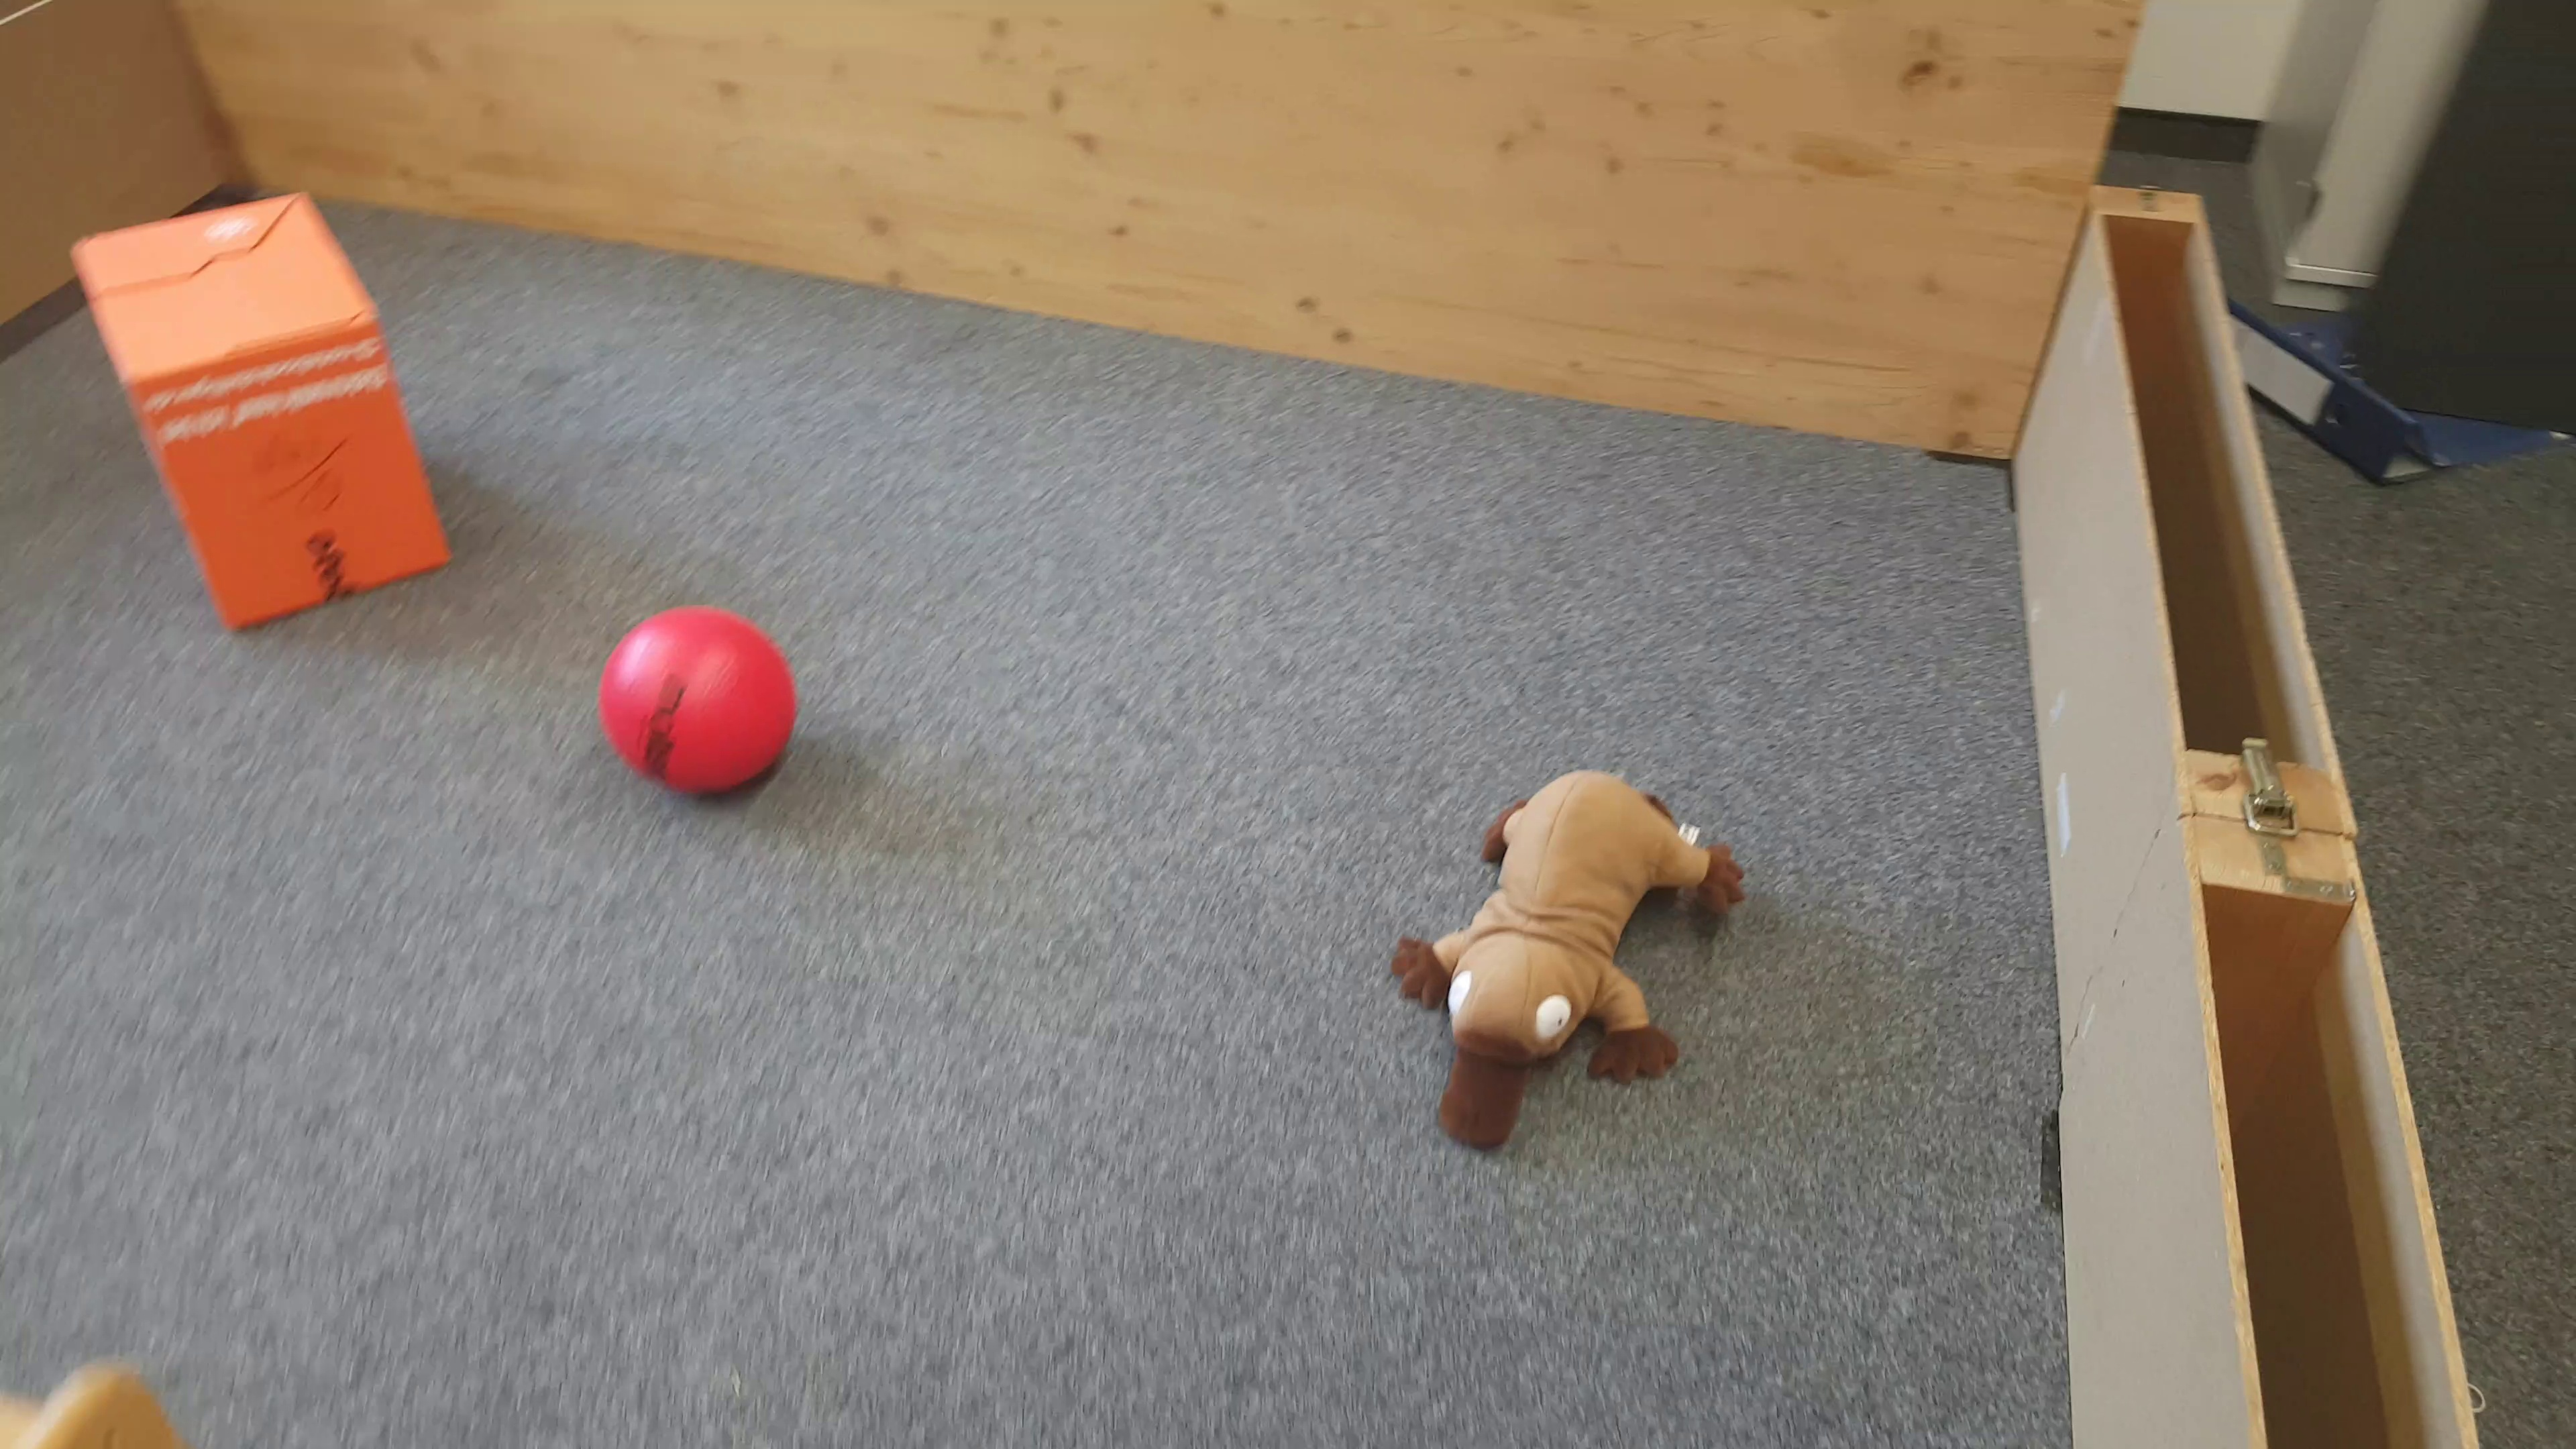grasp: (1380, 768, 1752, 1157)
kick: (594, 602, 800, 800)
push: (67, 188, 456, 635)
